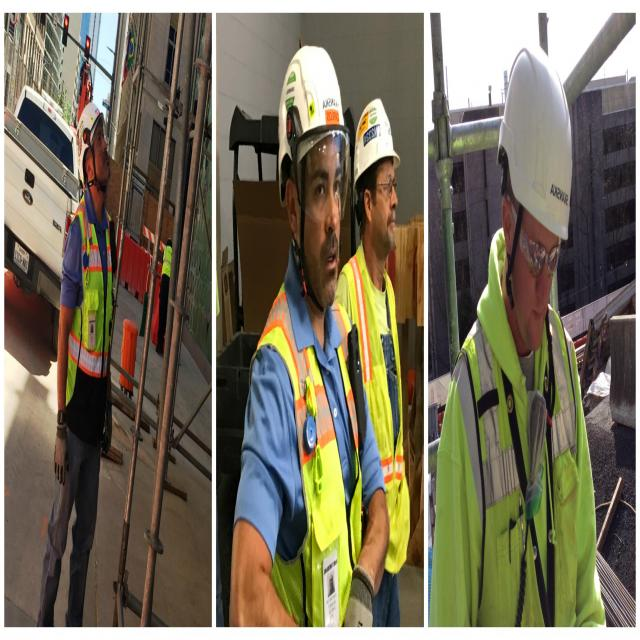Reflective-Jacket: (434, 292, 601, 632), (252, 280, 365, 626), (337, 244, 410, 573), (62, 195, 116, 405)
Safety-Helmet: (495, 44, 576, 238), (275, 33, 347, 163), (352, 89, 400, 189), (73, 92, 113, 162)
